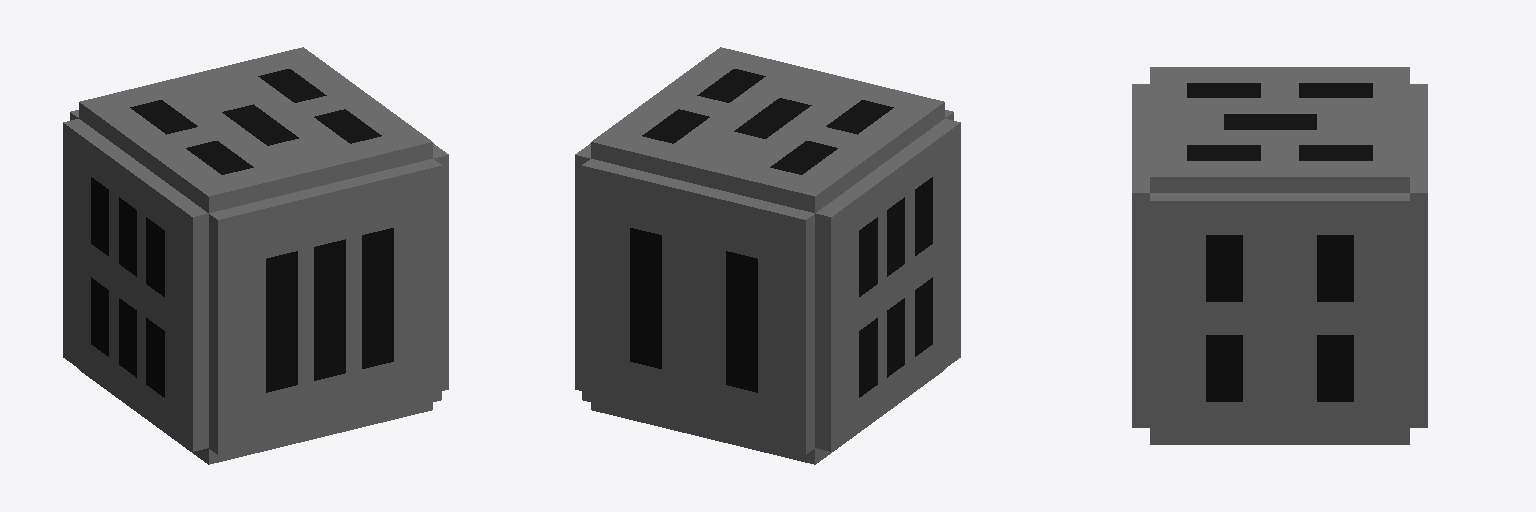
3 views of the same model, side by side, from view 1: azimuth 30°, elevation 25°; view 2: azimuth 150°, elevation 25°; view 3: azimuth 270°, elevation 25° (orthographic).
Visible parts, largest first — view 1: object 1; view 2: object 1; view 3: object 1.
Boxes of the visible parts, x1,y1,x2,y2 form: object 1: [63, 47, 448, 464]; object 1: [575, 47, 960, 464]; object 1: [1132, 67, 1427, 444].
Size of the model in its own units: 1.6 by 1.6 by 1.6.
1 materials, 1 textured.